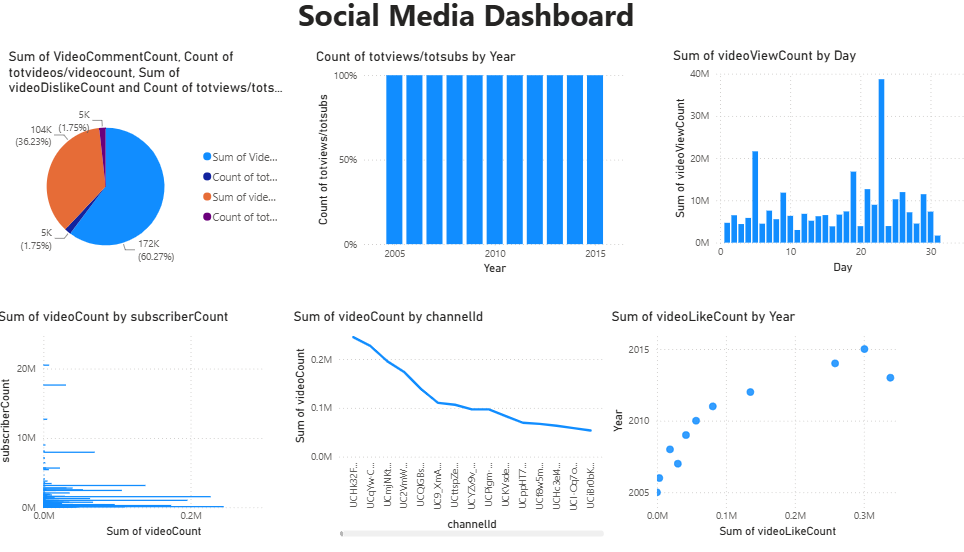

The dashboard page shown, as its layout file describes it:
{"tool":"powerbi","page":{"name":"Page 1","canvas":[1280,720],"ordinal":0},"visuals":[{"type":"textbox","box":[9.4,0,1171.7,69.9],"z":0},{"type":"textbox","box":[400.6,0,444.1,69.9],"z":1},{"type":"pieChart","fields":{"Y":["Sum(YouTubeDataset_withChannelElapsed_5000rows.VideoCommentCount)","CountNonNull(YouTubeDataset_withChannelElapsed_5000rows.totvideos/videocount)","Sum(YouTubeDataset_withChannelElapsed_5000rows.videoDislikeCount)","CountNonNull(YouTubeDataset_withChannelElapsed_5000rows.totviews/totsubs)"]},"box":[0,69.9,359.1,289.1],"z":2},{"type":"clusteredBarChart","fields":{"Y":["Sum(YouTubeDataset_withChannelElapsed_5000rows.videoCount)"],"Category":["YouTubeDataset_withChannelElapsed_5000rows.subscriberCount"]},"box":[0,400.6,359.1,292.9],"z":3},{"type":"hundredPercentStackedColumnChart","fields":{"Category":["YouTubeDataset_withChannelElapsed_5000rows.videoPublished.Variation.Date Hierarchy.Year"],"Y":["CountNonNull(YouTubeDataset_withChannelElapsed_5000rows.totviews/totsubs)"]},"box":[395,69.9,400.6,289.1],"z":4},{"type":"lineChart","fields":{"Y":["Sum(YouTubeDataset_withChannelElapsed_5000rows.videoCount)"],"Category":["YouTubeDataset_withChannelElapsed_5000rows.channelId"]},"box":[395,401,401,293],"z":5},{"type":"lineClusteredColumnComboChart","fields":{"Category":["YouTubeDataset_withChannelElapsed_5000rows.videoPublished.Variation.Date Hierarchy.Day"],"Y":["Sum(YouTubeDataset_withChannelElapsed_5000rows.videoViewCount)"]},"box":[844.7,71.8,385.5,289.1],"z":6},{"type":"scatterChart","fields":{"X":["Sum(YouTubeDataset_withChannelElapsed_5000rows.videoLikeCount)"],"Y":["YouTubeDataset_withChannelElapsed_5000rows.videoPublished.Variation.Date Hierarchy.Year"]},"box":[796,401,385,293],"z":7}]}

Visuals, with their boxes in screenshot pixels (x1, y1, x2, y2), scaled from the page's 1280x720 canvas onto the 964x552 screenshot:
textbox: (x1=7, y1=0, x2=890, y2=54)
textbox: (x1=302, y1=0, x2=636, y2=54)
pieChart - Sum(YouTubeDataset_withChannelElapsed_5000rows.VideoCommentCount) x CountNonNull(YouTubeDataset_withChannelElapsed_5000rows.totvideos/videocount): (x1=0, y1=54, x2=270, y2=275)
clusteredBarChart - Sum(YouTubeDataset_withChannelElapsed_5000rows.videoCount) x YouTubeDataset_withChannelElapsed_5000rows.subscriberCount: (x1=0, y1=307, x2=270, y2=532)
hundredPercentStackedColumnChart - YouTubeDataset_withChannelElapsed_5000rows.videoPublished.Variation.Date Hierarchy.Year x CountNonNull(YouTubeDataset_withChannelElapsed_5000rows.totviews/totsubs): (x1=297, y1=54, x2=599, y2=275)
lineChart - Sum(YouTubeDataset_withChannelElapsed_5000rows.videoCount) x YouTubeDataset_withChannelElapsed_5000rows.channelId: (x1=297, y1=307, x2=599, y2=532)
lineClusteredColumnComboChart - YouTubeDataset_withChannelElapsed_5000rows.videoPublished.Variation.Date Hierarchy.Day x Sum(YouTubeDataset_withChannelElapsed_5000rows.videoViewCount): (x1=636, y1=55, x2=926, y2=277)
scatterChart - Sum(YouTubeDataset_withChannelElapsed_5000rows.videoLikeCount) x YouTubeDataset_withChannelElapsed_5000rows.videoPublished.Variation.Date Hierarchy.Year: (x1=599, y1=307, x2=889, y2=532)
